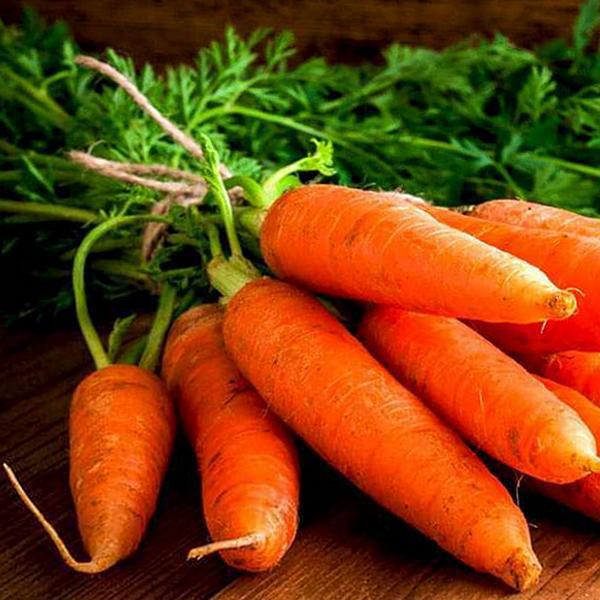carrot: (30, 182, 600, 585), (211, 262, 561, 587), (249, 185, 600, 350), (366, 289, 600, 493), (159, 301, 297, 581), (65, 356, 165, 578)
